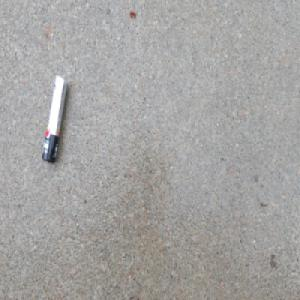Battery: (41, 74, 70, 165)
